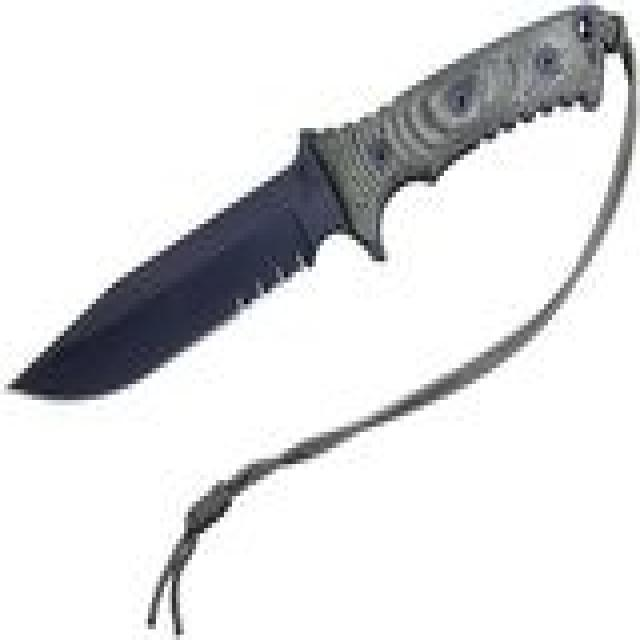Knife: (0, 0, 624, 432)
